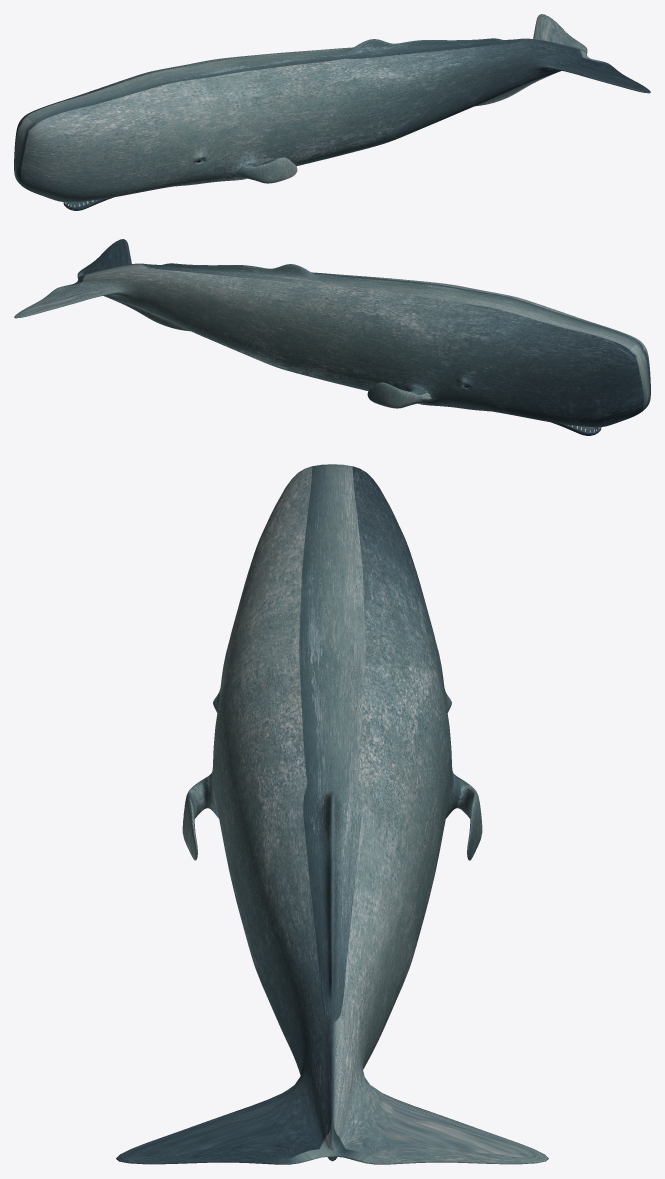
File: spermWhale.glb
The picture shows the model from 3 angles, top to bottom: view 1: azimuth 30°, elevation 25°; view 2: azimuth 150°, elevation 25°; view 3: azimuth 270°, elevation 25°; orthographic projection. The views are drawn at different scales.
Parts seen in each view (by area): view 1: Whale; view 2: Whale; view 3: Whale.
Boxes of the visible parts, x1,y1,x2,y2 form: Whale: (14, 14, 650, 210); Whale: (14, 239, 650, 435); Whale: (116, 464, 548, 1164).
Size of the model in its own units: 3.82 by 0.7477 by 1.23.
Materials: 3 (2 with a texture image).
